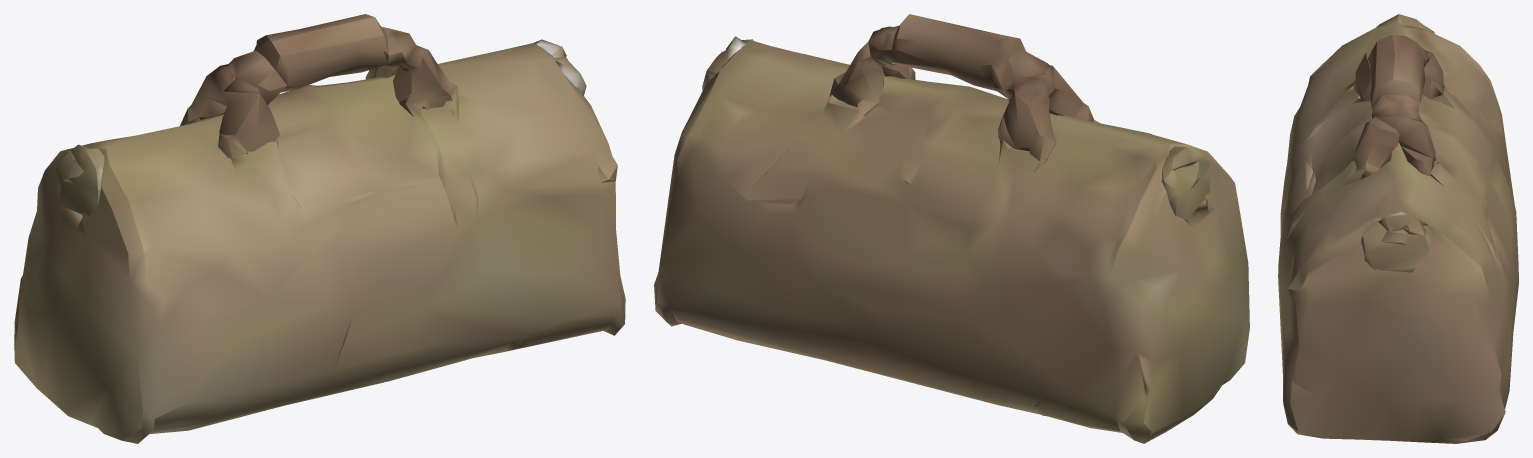
File: Bag01.fbx
3 renders of one model, left to right at view 1: azimuth 30°, elevation 25°; view 2: azimuth 150°, elevation 25°; view 3: azimuth 270°, elevation 25°, orthographic. The views are drawn at different scales.
Visible parts, largest first — view 1: Bag01; view 2: Bag01; view 3: Bag01.
Part boxes in pixels (x1=…): Bag01: x1=14, y1=14, x2=625, y2=443; Bag01: x1=654, y1=14, x2=1249, y2=443; Bag01: x1=1278, y1=14, x2=1518, y2=443.
Size of the model in its own units: 76.77 by 46.72 by 35.3.
